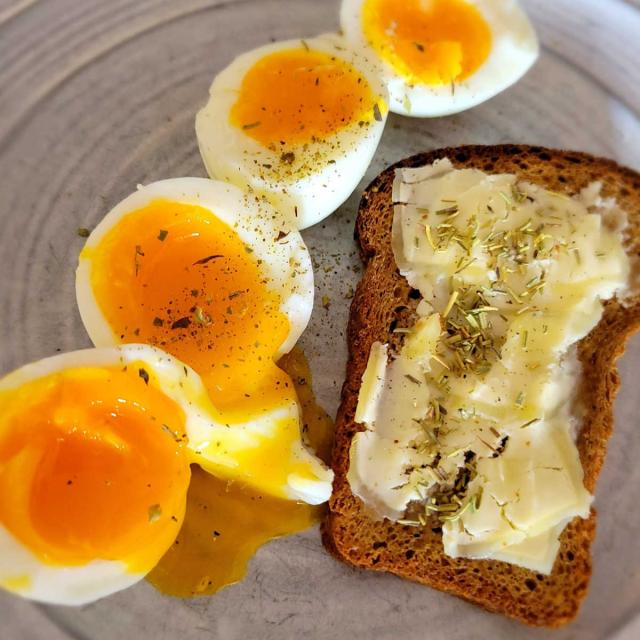eggs: (14, 0, 473, 587)
